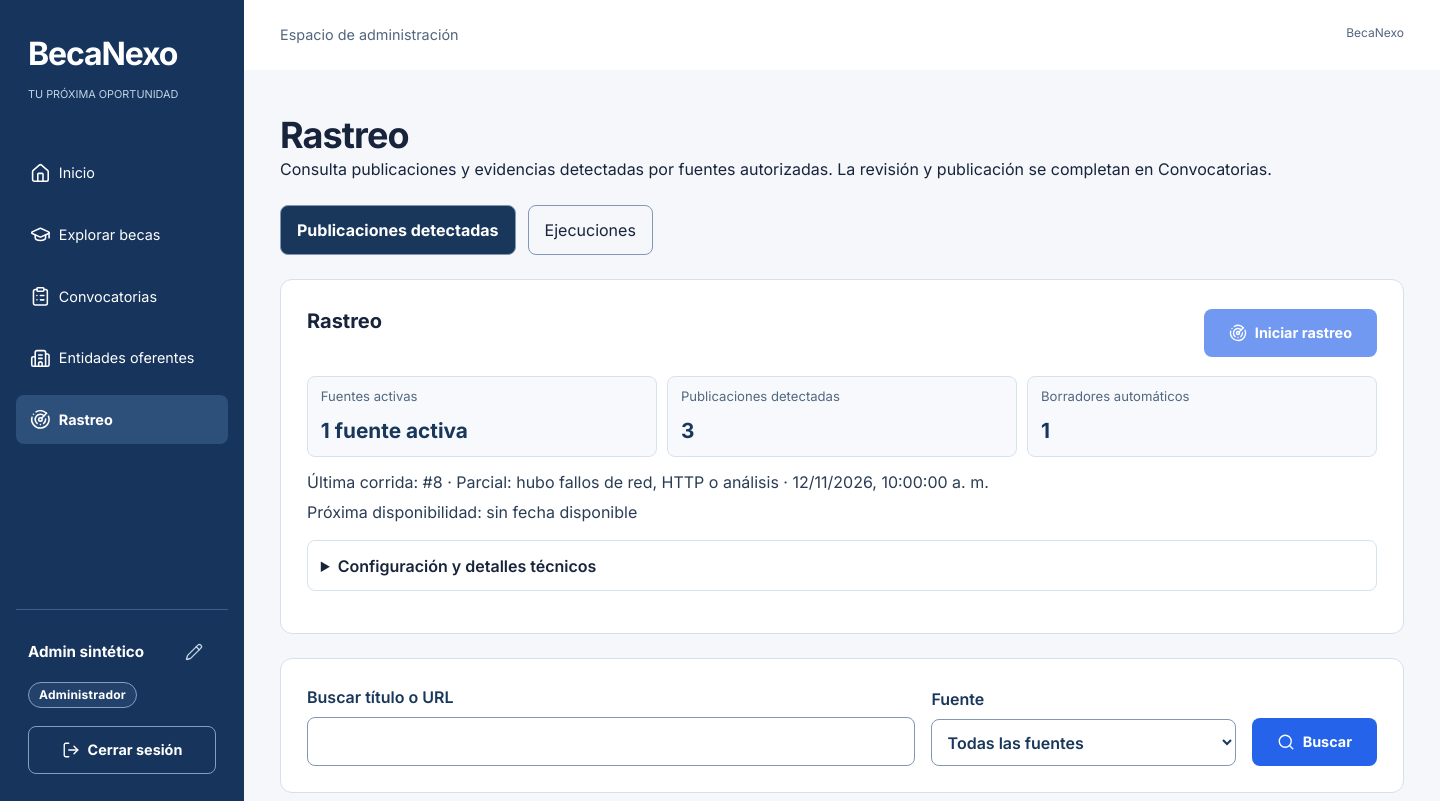
Test case: identifica fuente, estado, última ejecución y borradores en el panel
expect the text "3" is shown: met, box [681,418,694,443]
expect the text "1" is shown: met, box [1041,418,1050,443]
Click the heading "Configuración y detalles técnicos": coordinates (467, 566) [338,556,596,576]
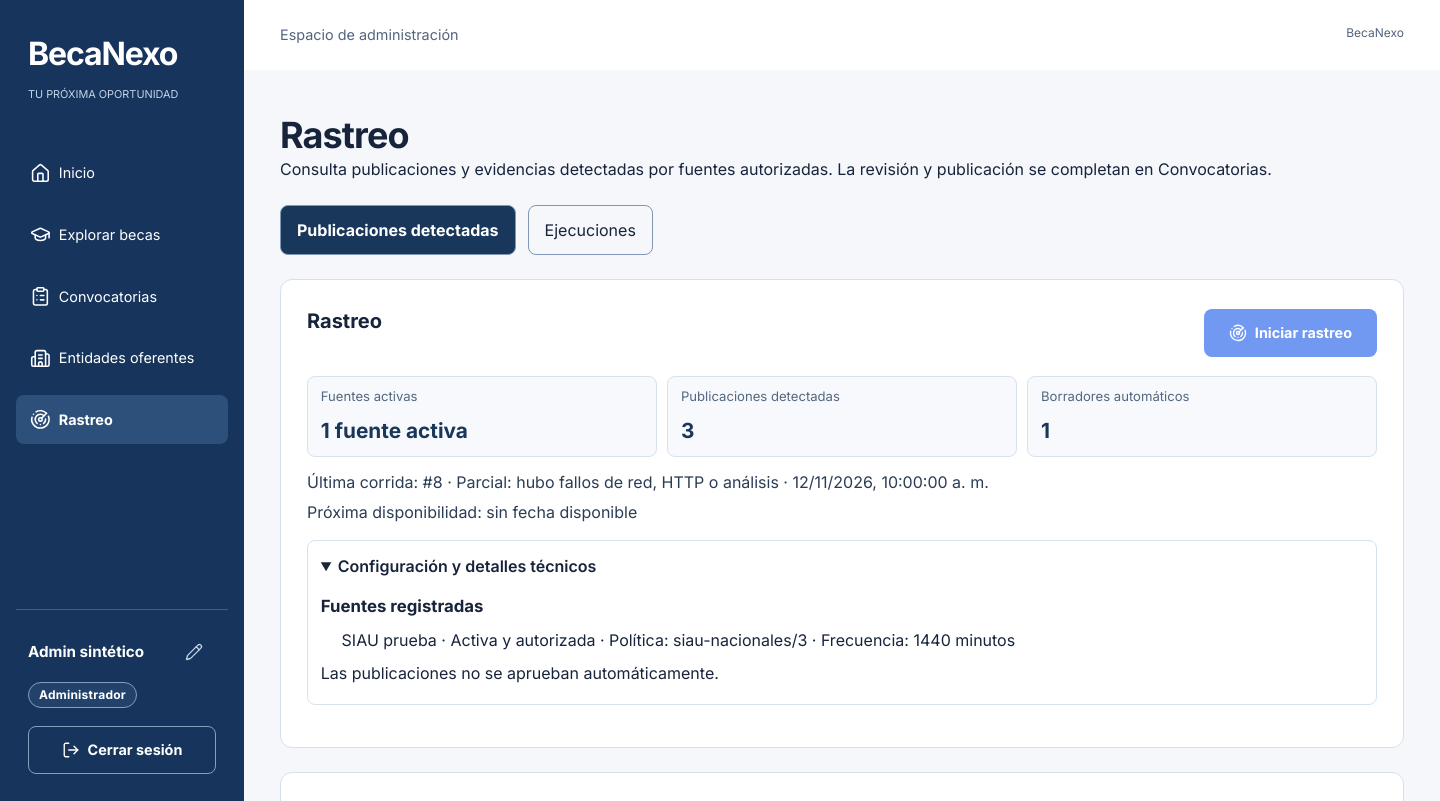
expect the list item "siau-nacionales/3" is shown: met, box [673,630,807,650]
